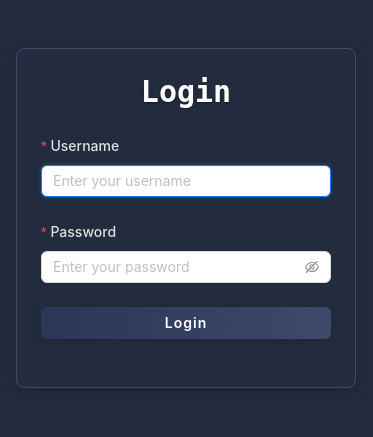
Test case: <LoginComponent /> › shows error on invalid credentials
The width and height of the screenshot is (373, 437).
In the field with placeholder "Enter your username": (186, 181) [41,165,331,197], type "wronguser"
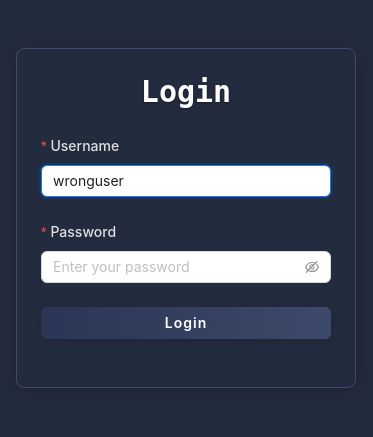
In the password field with placeholder "Enter your password": (177, 267) [53,256,301,278], type "badpass"
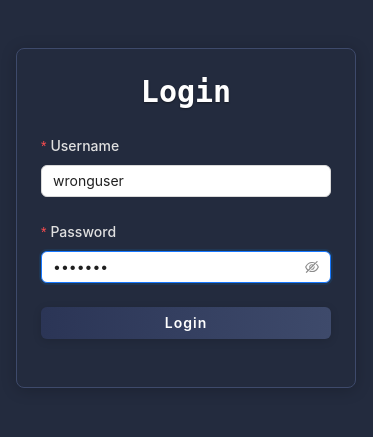
Click the button "Login": (186, 323) [41,307,331,339]
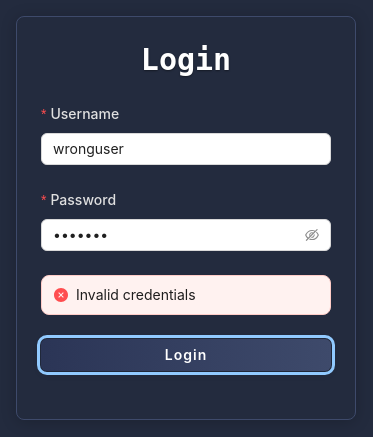
Check: the text "Invalid credentials" is shown, box [76,286,196,303]
